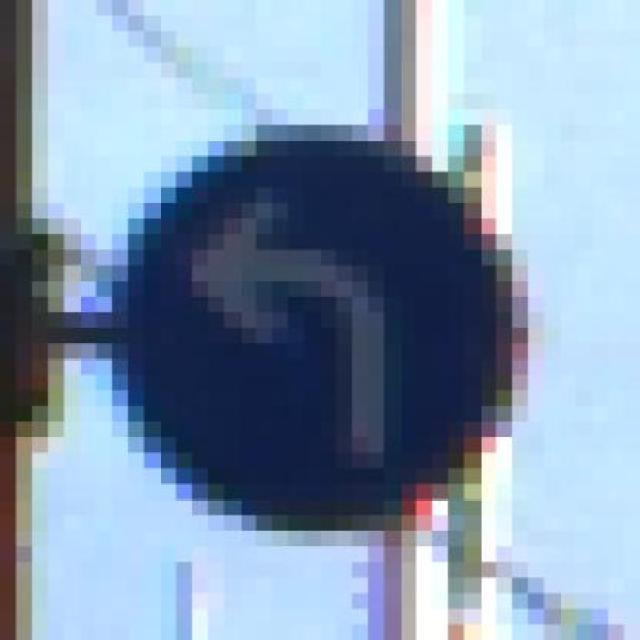Turn left ahead: (111, 94, 528, 546)
